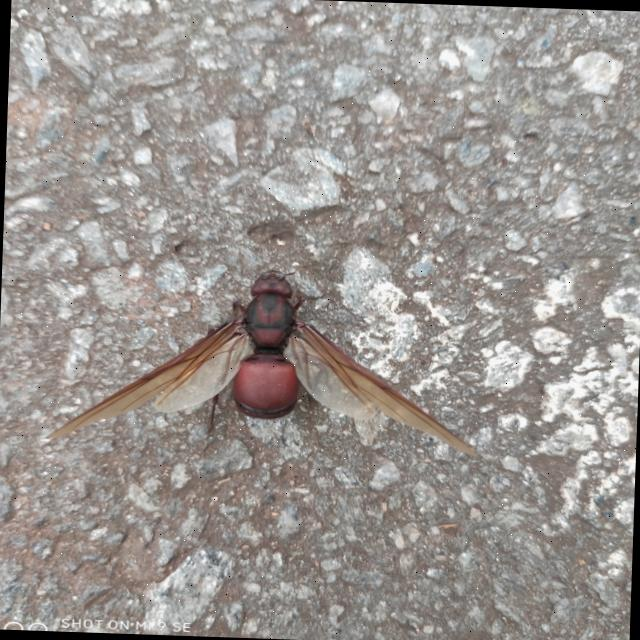Alive-Female-Alate: (47, 261, 490, 468)
